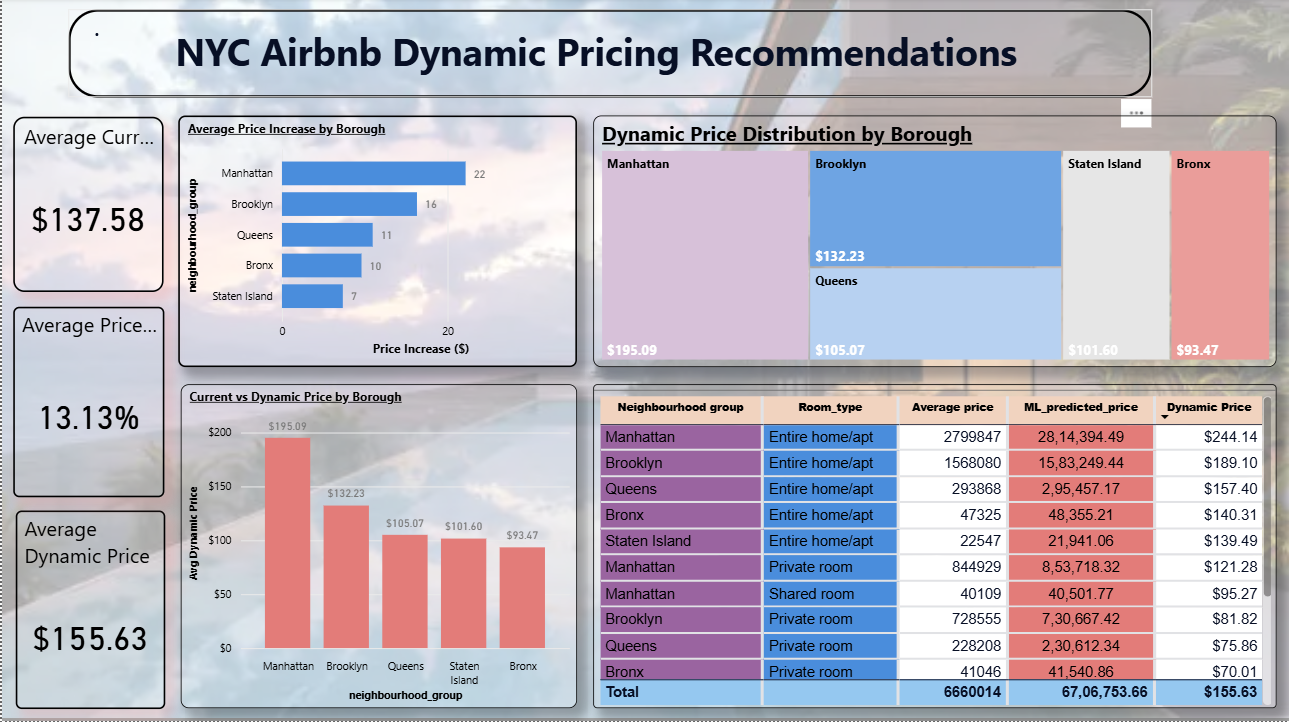

This screenshot's page, from the dashboard's own definition file:
{"tool":"powerbi","page":{"name":"Page 3","canvas":[1280,720],"ordinal":2},"visuals":[{"type":"textbox","box":[66.4,11.7,1078.4,87.9],"z":0},{"type":"card","title":"Average Current Price","fields":{"Values":["nyc_dynamic_pricing_final.2Avg Current Price"]},"box":[11,117.8,149.7,174.2],"z":1000},{"type":"card","title":"Average Dynamic Price","fields":{"Values":["nyc_dynamic_pricing_final.2Avg Dynamic Price"]},"box":[13.7,509.9,148.5,197.3],"z":2000},{"type":"card","title":"Average Price Increase","fields":{"Values":["nyc_dynamic_pricing_final.2Price Uplift %"]},"box":[11.7,306.7,150.4,189.5],"z":3000},{"type":"clusteredColumnChart","title":"Current vs Dynamic Price by Borough","fields":{"Category":["nyc_dynamic_pricing_final.neighbourhood_group"],"Y":["nyc_dynamic_pricing_final.Avg Dynamic Price"]},"box":[177.8,384.9,394.6,322.4],"z":4000},{"type":"barChart","title":"Average Price Increase by Borough","fields":{"Category":["nyc_dynamic_pricing_final.neighbourhood_group"],"Y":["nyc_dynamic_pricing_final.3Uplift Amount"]},"box":[175.8,117.2,396.6,250.1],"z":5000},{"type":"treemap","title":"Dynamic Price Distribution by Borough","fields":{"Values":["nyc_dynamic_pricing_final.Avg Dynamic Price"],"Group":["nyc_dynamic_pricing_final.neighbourhood_group"]},"box":[588,117.2,679.9,250.1],"z":6000},{"type":"tableEx","fields":{"Values":["nyc_dynamic_pricing_final.neighbourhood_group","nyc_dynamic_pricing_final.room_type","Sum(nyc_dynamic_pricing_final.price)","Sum(nyc_dynamic_pricing_final.ml_predicted_price)","nyc_dynamic_pricing_final.Avg Dynamic Price"]},"box":[588,384.9,679.9,322.4],"z":7000}]}

Visuals, with their boxes in screenshot pixels (x1, y1, x2, y2), scaled from the page's 1280x720 canvas onto the 1289x722 screenshot:
textbox: 67, 12, 1153, 100
"Average Current Price" card: 11, 118, 162, 293
"Average Dynamic Price" card: 14, 511, 163, 709
"Average Price Increase" card: 12, 308, 163, 498
"Current vs Dynamic Price by Borough" clusteredColumnChart: 179, 386, 576, 709
"Average Price Increase by Borough" barChart: 177, 118, 576, 368
"Dynamic Price Distribution by Borough" treemap: 592, 118, 1277, 368
tableEx - nyc_dynamic_pricing_final.neighbourhood_group x nyc_dynamic_pricing_final.room_type: 592, 386, 1277, 709
